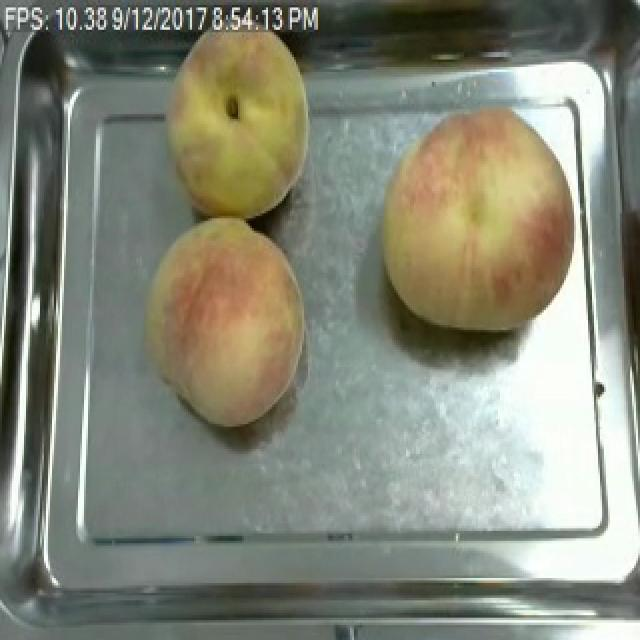Fruit: (370, 97, 586, 340), (134, 211, 314, 434), (154, 12, 320, 226)
